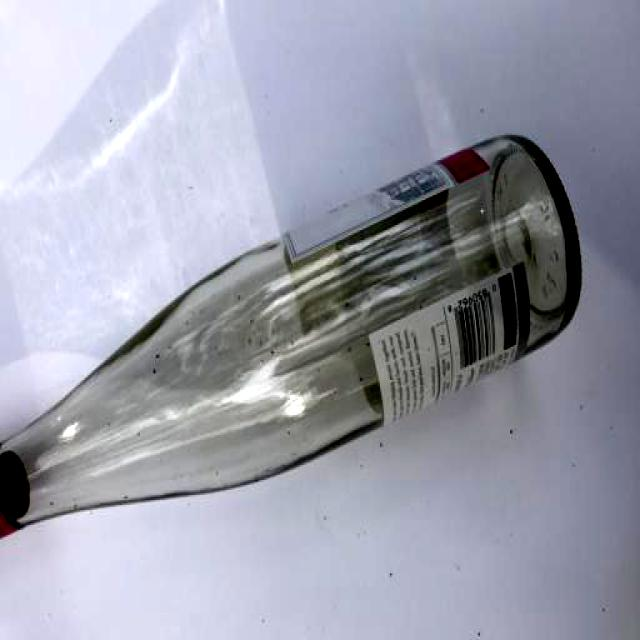Glass: (0, 124, 589, 548)
